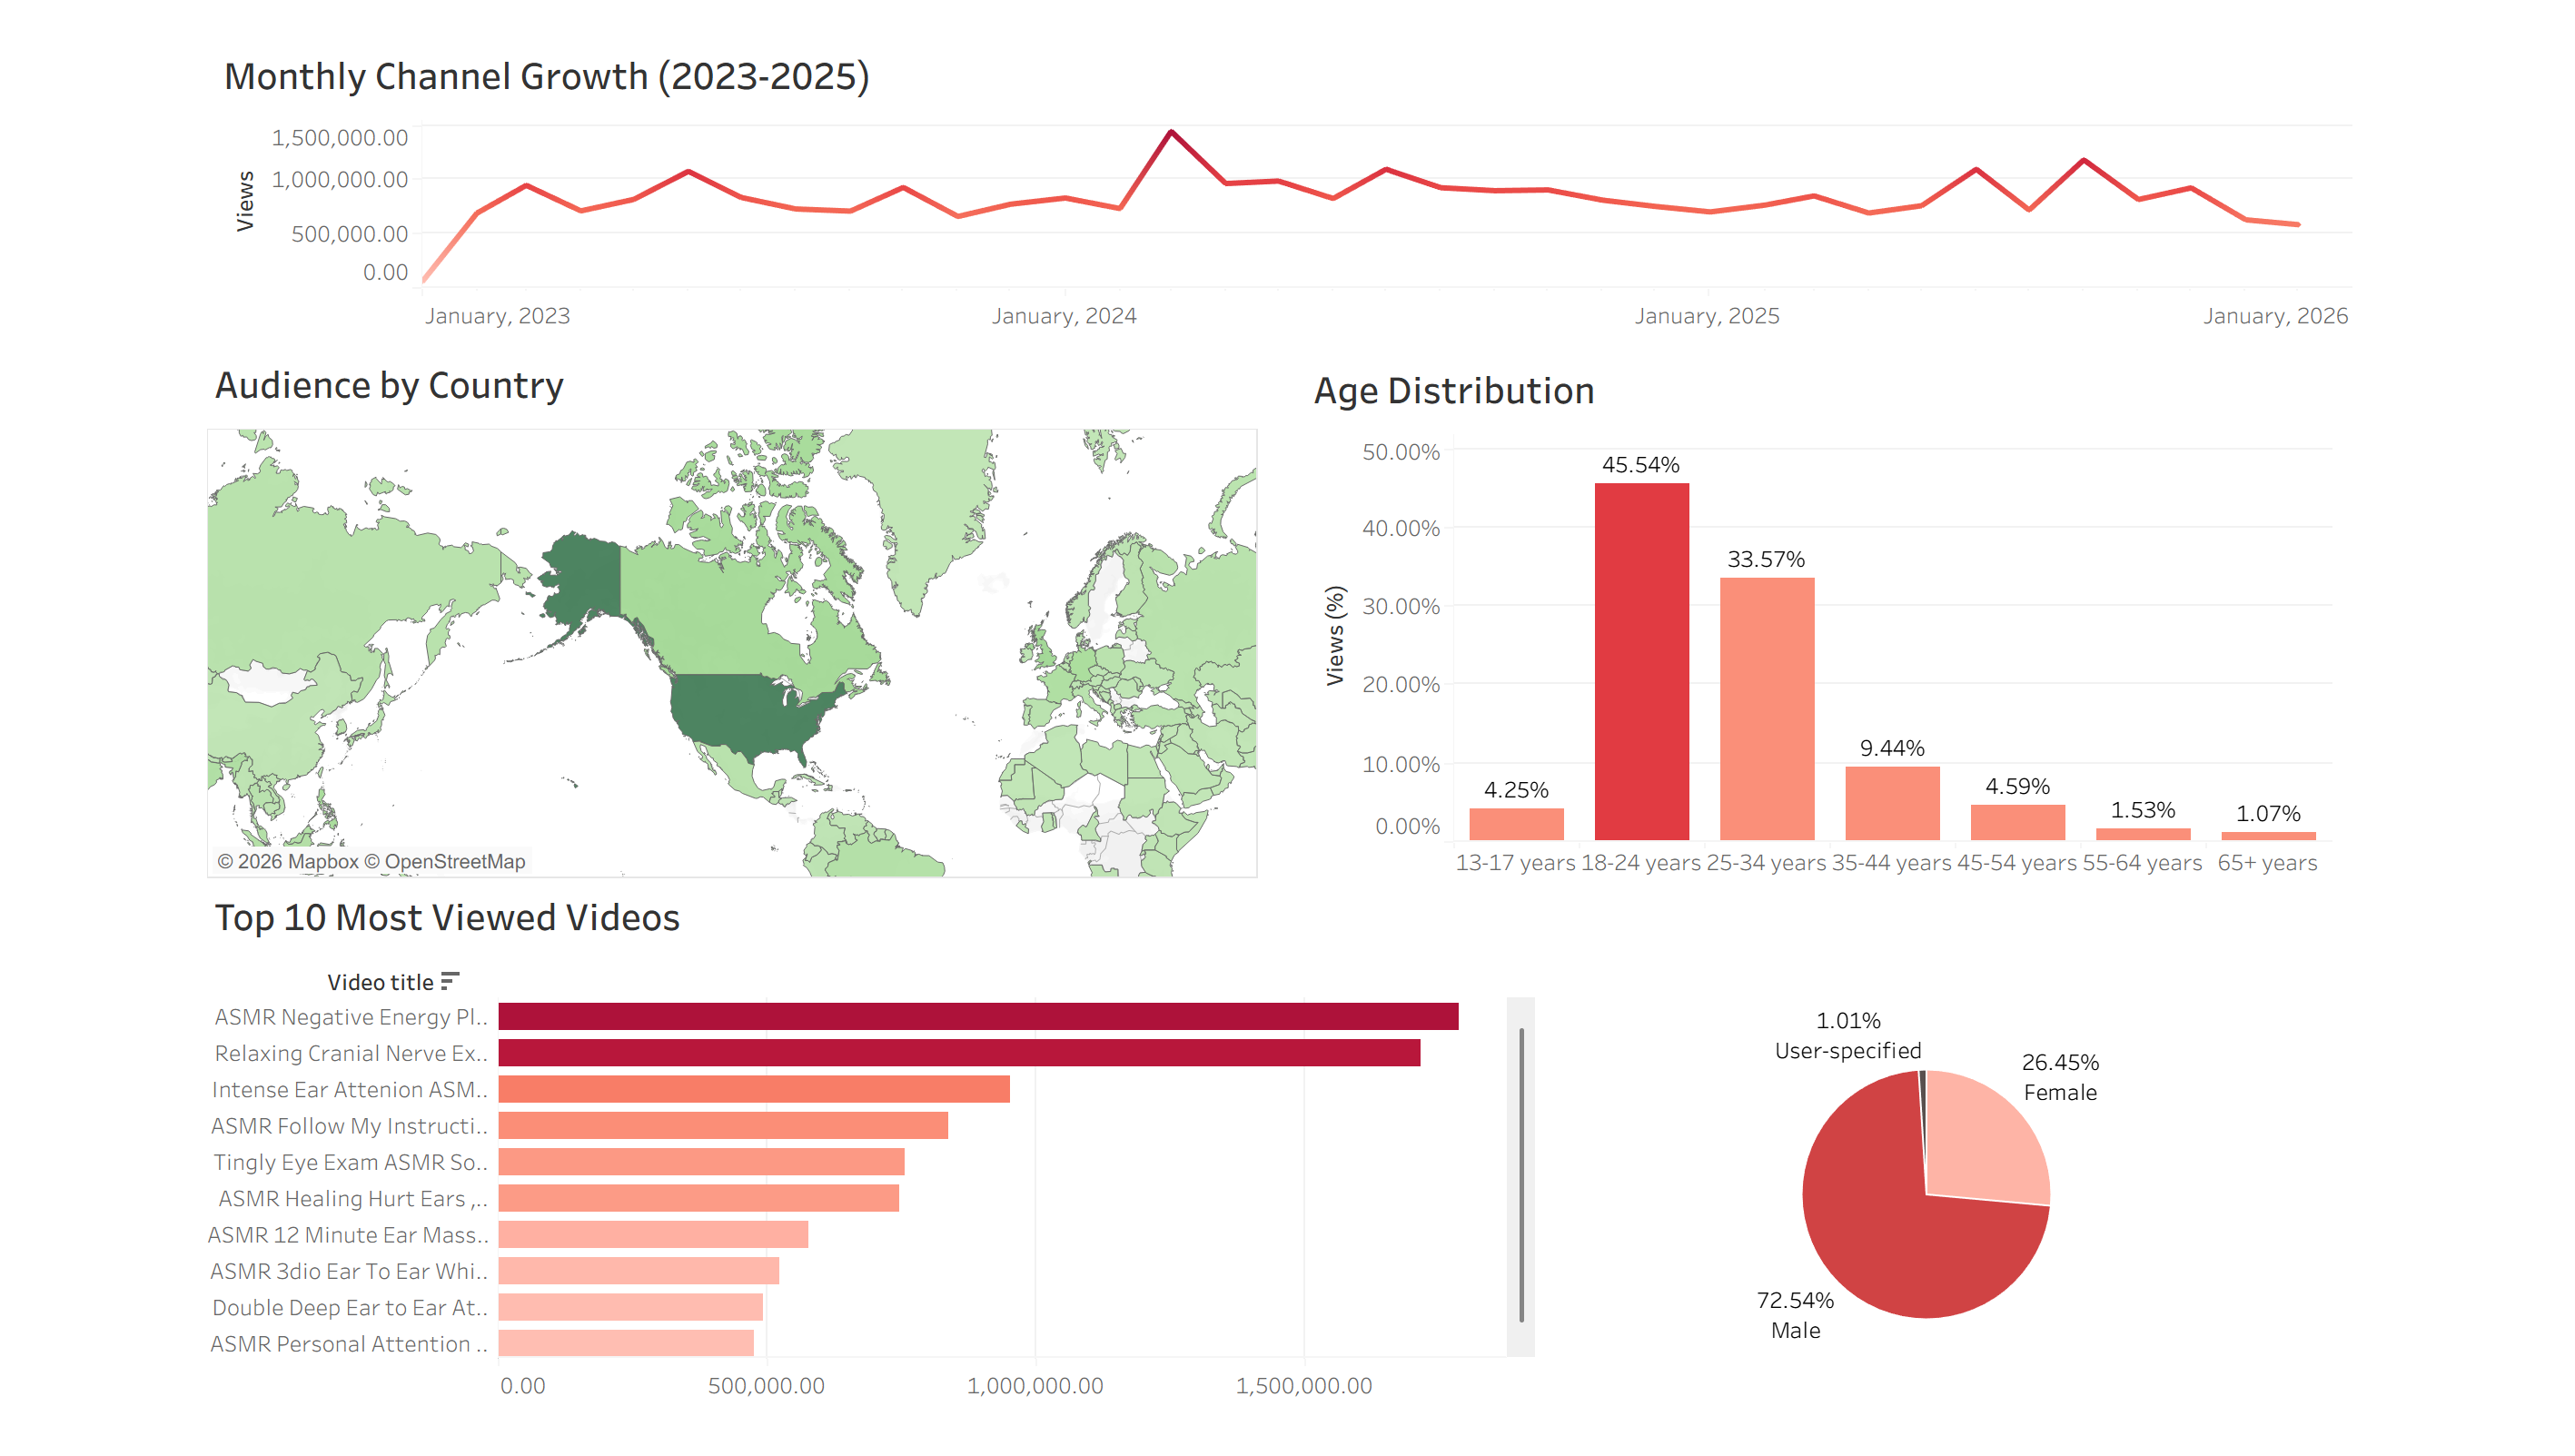

This screenshot's page, from the dashboard's own definition file:
{"tool":"tableau","page":{"name":"Youtube Analysis Dashboard","canvas":[1200,800],"ordinal":0},"visuals":[{"type":"title","box":[8,8,1184,59]},{"type":"worksheet","title":"Channel Growth","mark":"Automatic","rows":["Views"],"cols":["Date"],"box":[9,57,844,167]},{"type":"worksheet","title":"Total Views","mark":"Automatic","box":[863,68,311,104]},{"type":"filter","title":"Channel Growth","param":"[federated.0ij913v1dc3bl01bktirs06c2ef5].[none:Date:qk]","box":[867,180,311,74]},{"type":"worksheet","title":"Audience","mark":"Multipolygon","box":[2,227,579,274]},{"type":"worksheet","title":"Age","mark":"Automatic","rows":["Views (%)"],"cols":["Viewer age"],"box":[607,229,565,263]},{"type":"text","box":[559,480,376,184]},{"type":"worksheet","title":"Sub to Not Sub","mark":"Pie","rows":["Calculation_1731226274574337","Calculation_1731226274574337"],"box":[854,499,342,162]},{"type":"worksheet","title":"Top 10 Vids","mark":"Automatic","rows":["Video title"],"cols":["Views"],"box":[3,502,557,291]}]}

Visuals, with their boxes on the page's 1200x800 design canvas (x1, y1, x2, y2). These are canvas units, not pixel positions in the 2575x1456 screenshot, which may show the page scaled, cropped or inside an application window:
title: <region>8, 8, 1192, 67</region>
"Channel Growth" worksheet: <region>9, 57, 853, 224</region>
"Total Views" worksheet: <region>863, 68, 1174, 172</region>
"Channel Growth" filter: <region>867, 180, 1178, 254</region>
"Audience" worksheet (Multipolygon marks): <region>2, 227, 581, 501</region>
"Age" worksheet: <region>607, 229, 1172, 492</region>
text: <region>559, 480, 935, 664</region>
"Sub to Not Sub" worksheet (Pie marks): <region>854, 499, 1196, 661</region>
"Top 10 Vids" worksheet: <region>3, 502, 560, 793</region>
